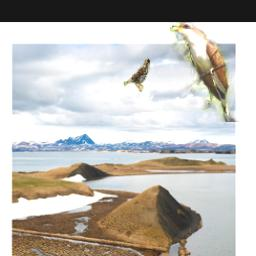Cuckoo: (171, 23, 241, 123)
Sparrow: (123, 57, 150, 93)
